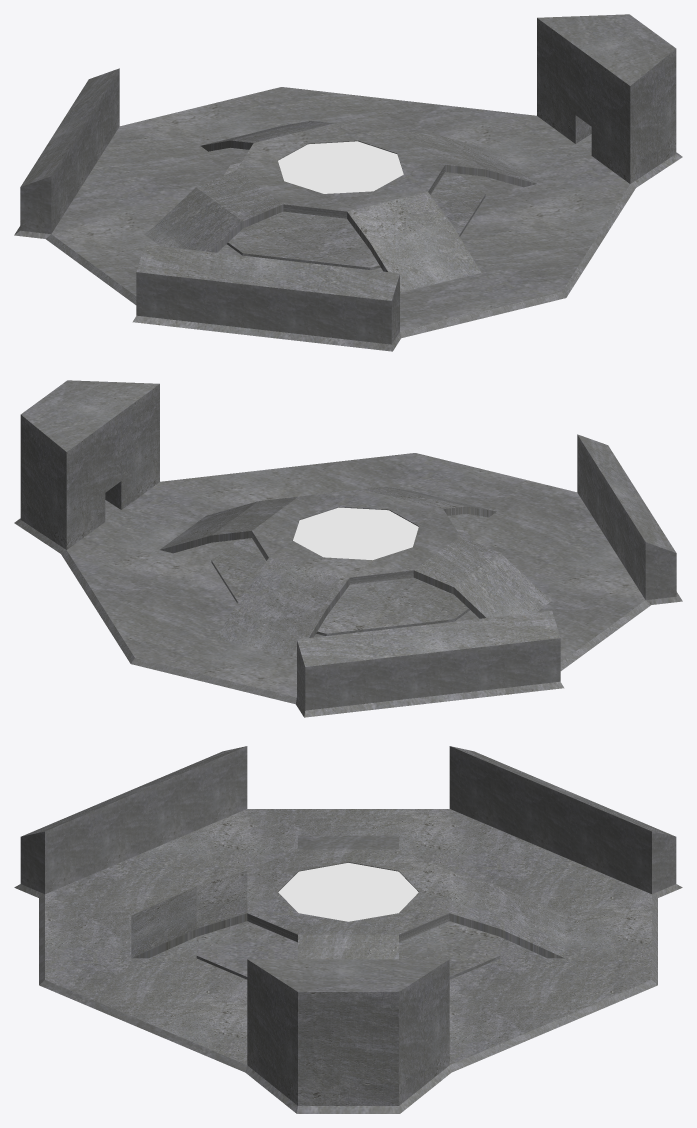
The model's file is Lobby.glb.
3 views of the same model, one above another, from view 1: azimuth 30°, elevation 25°; view 2: azimuth 150°, elevation 25°; view 3: azimuth 270°, elevation 25° (orthographic). The views are drawn at different scales.
Visible parts, largest first — view 1: Floor, Walls, Bridges, Map, Glass; view 2: Floor, Walls, Bridges, Map, Glass; view 3: Floor, Walls, Bridges, Map, Glass.
Boxes of the visible parts, x1,y1,x2,y2 form: Floor: [46, 87, 635, 338]; Walls: [14, 14, 682, 351]; Bridges: [144, 121, 536, 292]; Map: [224, 162, 485, 269]; Glass: [278, 141, 403, 193]; Floor: [61, 453, 650, 704]; Walls: [14, 380, 682, 717]; Bridges: [160, 487, 552, 658]; Map: [211, 528, 472, 635]; Glass: [293, 507, 418, 560]; Floor: [39, 809, 657, 1072]; Walls: [14, 746, 682, 1113]; Bridges: [131, 835, 565, 959]; Map: [196, 921, 500, 979]; Glass: [278, 863, 418, 921].
Size of what is drawn, in the model's own units: 42.24 by 7.56 by 38.58.
Materials: 2 (1 with a texture image).
